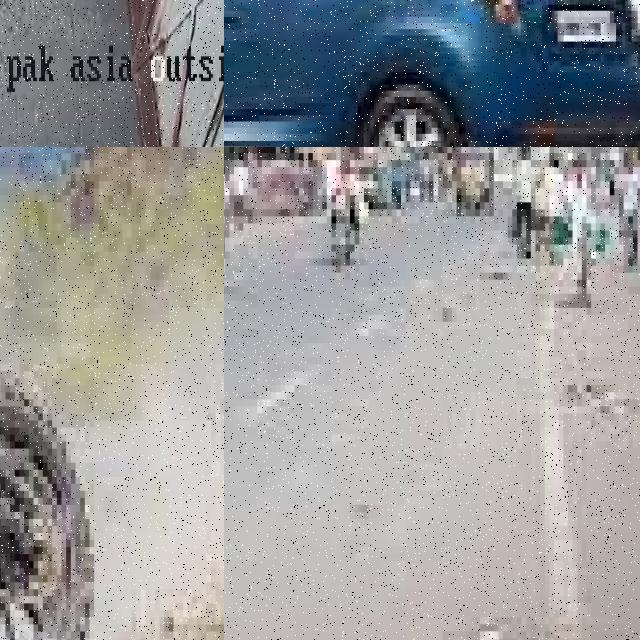bike: (0, 147, 103, 640), (318, 181, 359, 266), (224, 188, 238, 286)
car: (224, 0, 640, 147)
